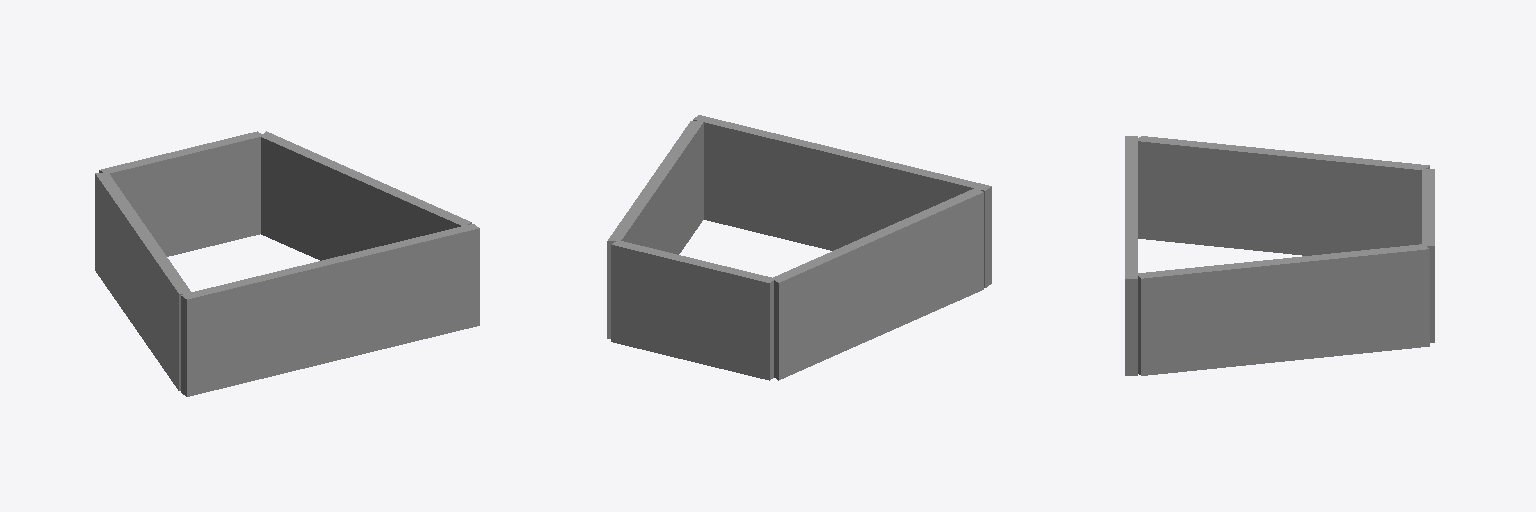
The model's file is Highlight2.obj.
3 views of the same model, side by side, from view 1: azimuth 30°, elevation 25°; view 2: azimuth 150°, elevation 25°; view 3: azimuth 270°, elevation 25° (orthographic).
Visible parts, largest first — view 1: CrossBar_(2).001, CrossBar_(1).001, CrossBar_(3).001, CrossBar.002; view 2: CrossBar.002, CrossBar_(2).001, CrossBar_(3).001, CrossBar_(1).001; view 3: CrossBar_(1).001, CrossBar.002, CrossBar_(2).001, CrossBar_(3).001.
Boxes of the visible parts, box(x1,y1,x2,y2) form: CrossBar_(2).001: box(181, 224, 479, 396); CrossBar_(1).001: box(260, 131, 471, 260); CrossBar_(3).001: box(99, 131, 261, 256); CrossBar.002: box(95, 173, 191, 390); CrossBar.002: box(773, 187, 983, 380); CrossBar_(2).001: box(693, 115, 991, 287); CrossBar_(3).001: box(611, 240, 775, 380); CrossBar_(1).001: box(607, 121, 703, 338); CrossBar_(1).001: box(1138, 244, 1429, 375); CrossBar.002: box(1138, 136, 1429, 255); CrossBar_(2).001: box(1125, 136, 1137, 375); CrossBar_(3).001: box(1422, 169, 1434, 342).
Size of the model in its own units: 0.6603 by 0.21 by 0.605.